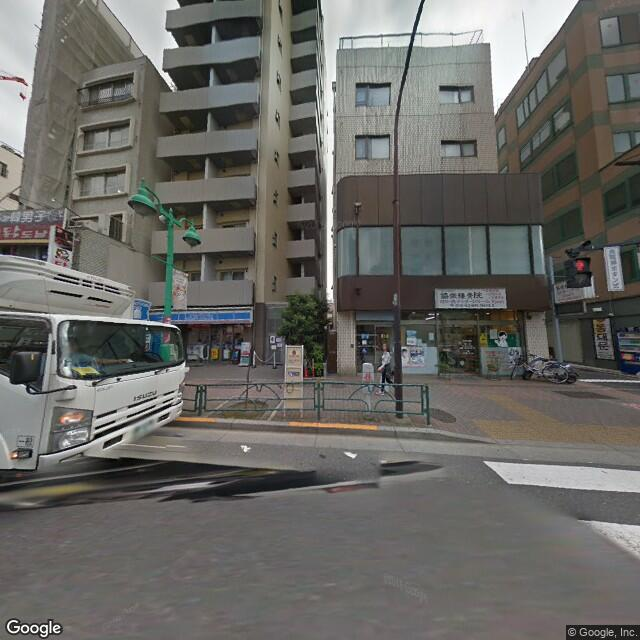lawson: (149, 302, 259, 329), (127, 297, 154, 327)
